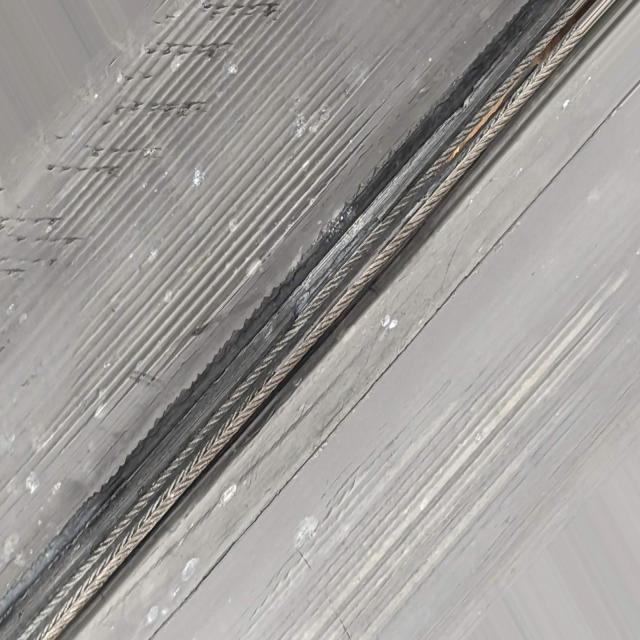Tear: (0, 0, 640, 640)
Wear: (0, 0, 410, 493)
